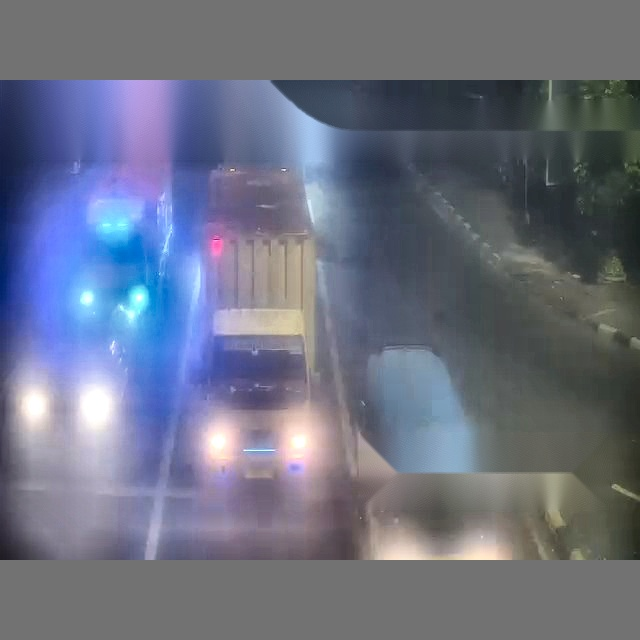Bis: (2, 80, 323, 560)
